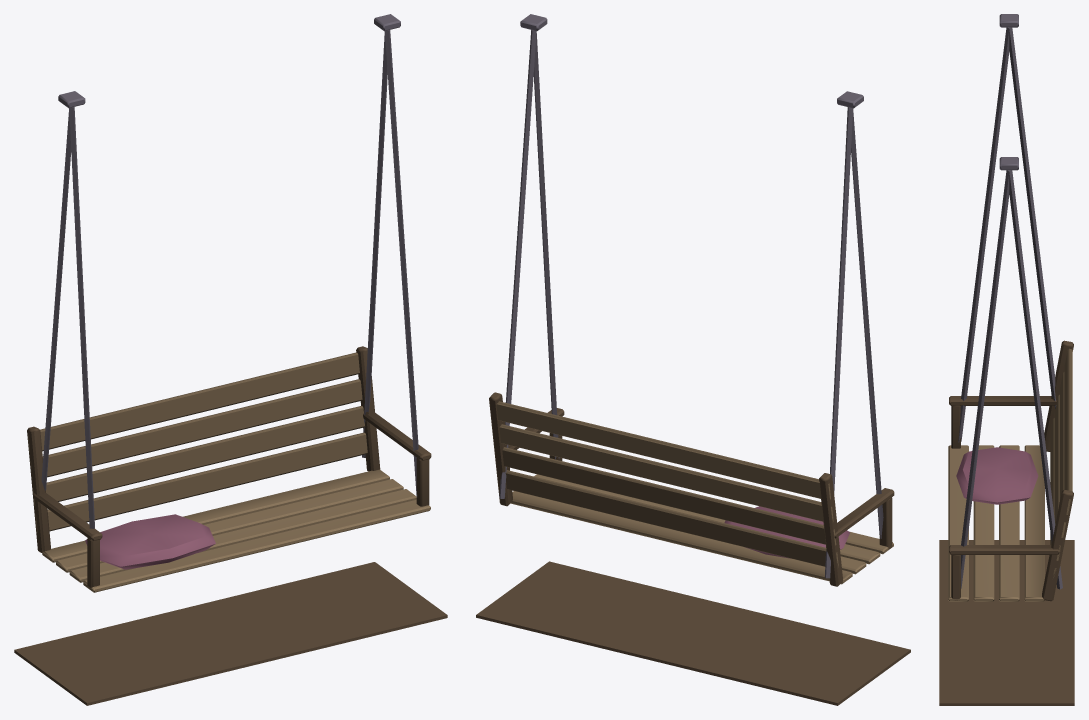
File: swing_porch.glb
3 views of the same model, side by side, from view 1: azimuth 30°, elevation 25°; view 2: azimuth 150°, elevation 25°; view 3: azimuth 270°, elevation 25° (orthographic). The views are drawn at different scales.
Visible parts, largest first — view 1: swing, swing_porch; view 2: swing, swing_porch; view 3: swing, swing_porch.
Boxes of the visible parts, x1=… form: swing: x1=27, y1=30, x2=431, y2=592; swing_porch: x1=14, y1=14, x2=447, y2=705; swing: x1=489, y1=30, x2=894, y2=586; swing_porch: x1=476, y1=14, x2=910, y2=705; swing: x1=948, y1=27, x2=1073, y2=601; swing_porch: x1=939, y1=14, x2=1074, y2=705.
Bounding box in the file's own units: 1.6 × 2.45 × 0.56.
